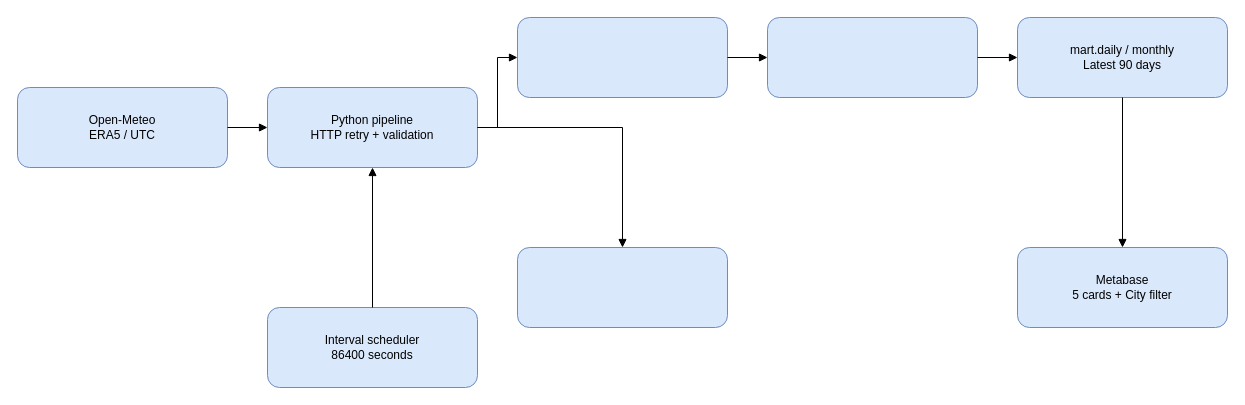
This 1245x405 diagram has some shape labels left out. Here are the shapes that lost their labels. From the top down, the centre of each, then its label:
point (622, 57): raw.weather_responses JSONB + hash + source
point (872, 57): stg.weather_daily History / PK city,date
point (622, 287): audit.runs success / failed
